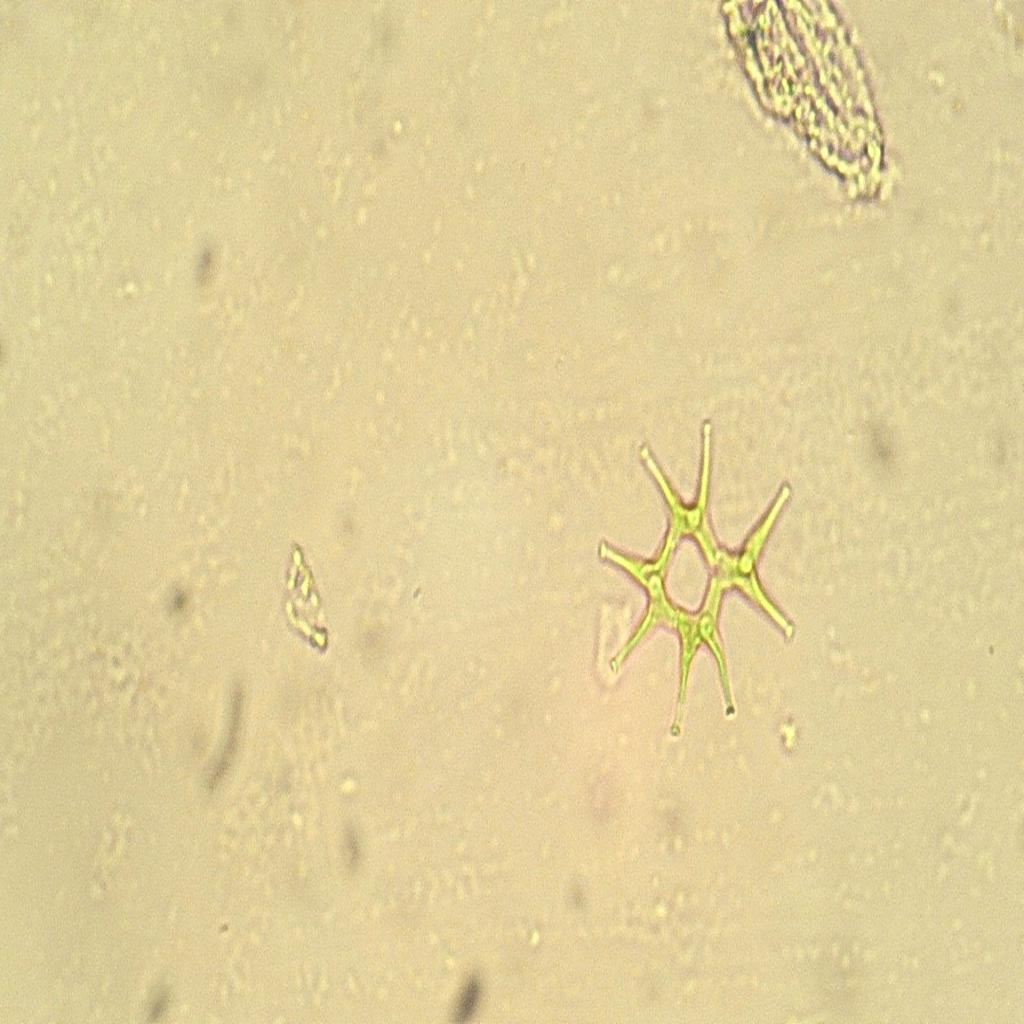Pediastrum_CT: (592, 404, 816, 750)
